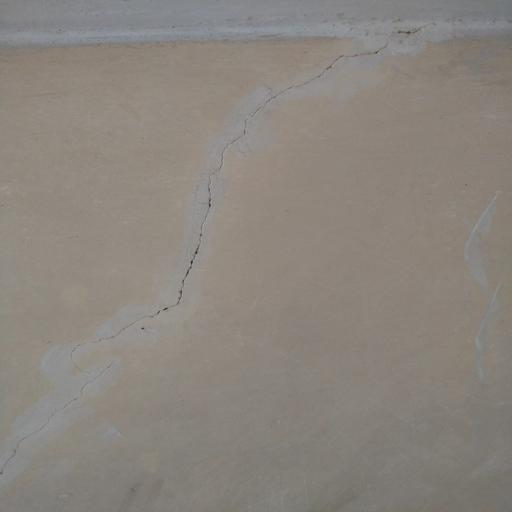minor_crack: (0, 22, 439, 480)
